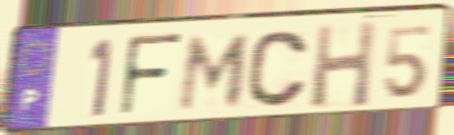1: (88, 36, 115, 121)
5: (379, 23, 435, 101)
C: (244, 28, 310, 110)
F: (117, 32, 186, 121)
H: (308, 17, 379, 111)
M: (175, 32, 255, 114)
